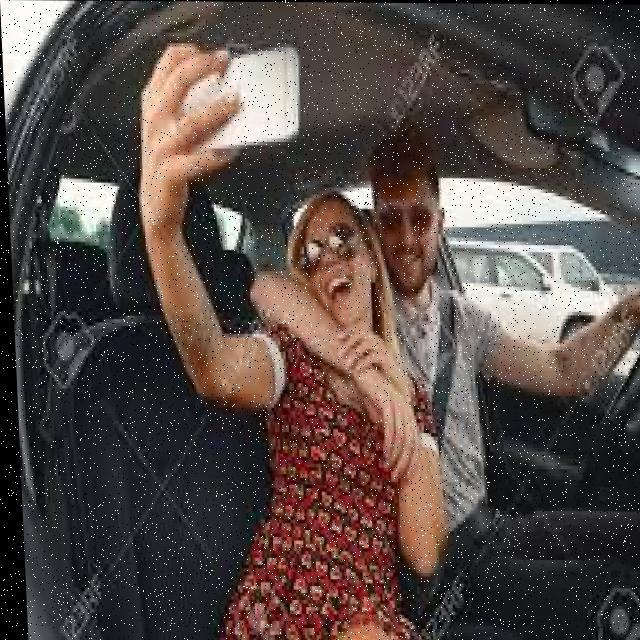noSeatbelt: (260, 335, 411, 640)
seatbelt: (399, 284, 478, 449)
